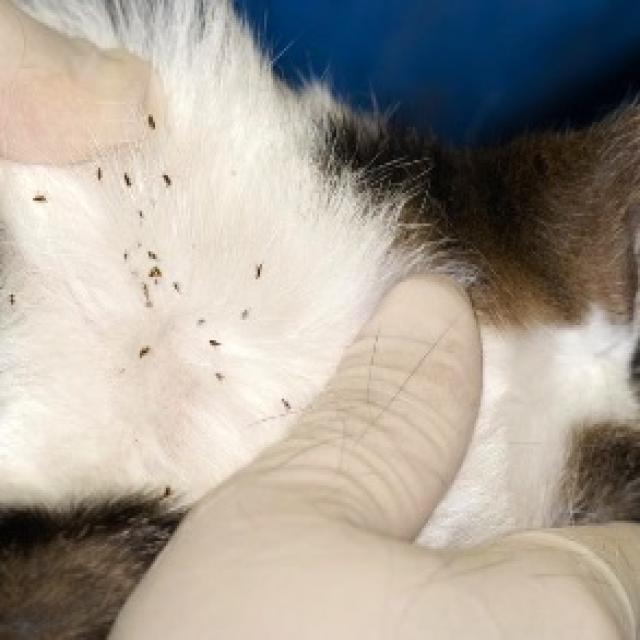di ung bo chet: (0, 154, 331, 425)
